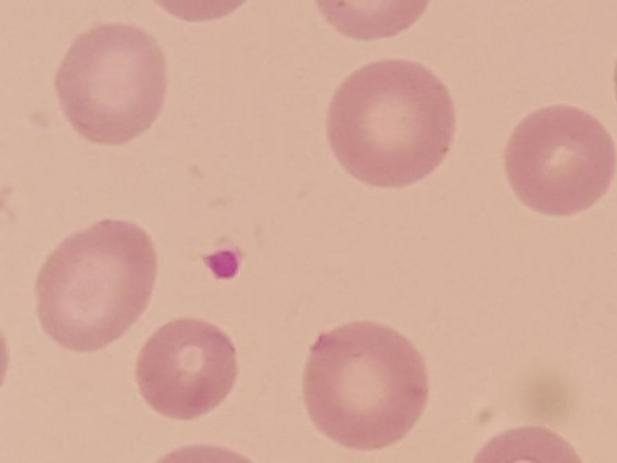Uninfected: (302, 321, 427, 447), (35, 219, 155, 349), (328, 59, 453, 183), (58, 25, 166, 144), (503, 104, 612, 212), (135, 318, 236, 419)
